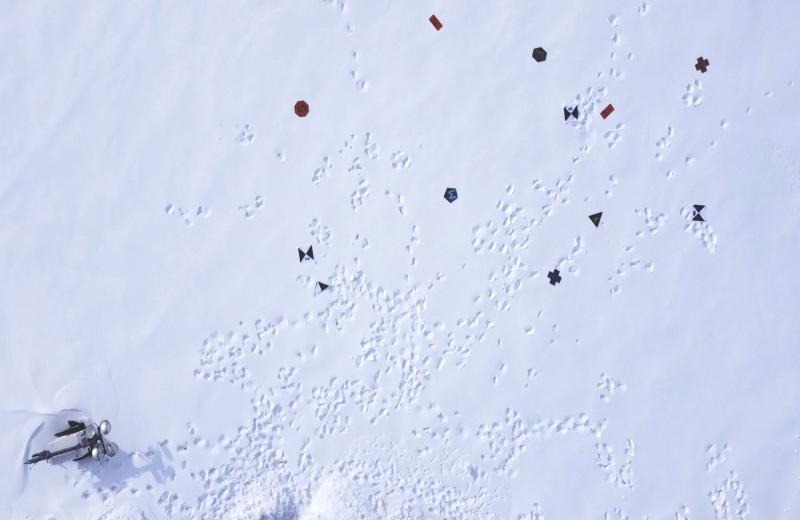Cross: (547, 268, 563, 287), (694, 56, 710, 74)
Hexagon: (531, 46, 548, 62)
Octagon: (294, 99, 310, 117)
Pentagon: (442, 185, 460, 205)
Rectangle: (599, 104, 615, 120), (430, 13, 443, 31)
Triangle: (588, 211, 604, 229)
